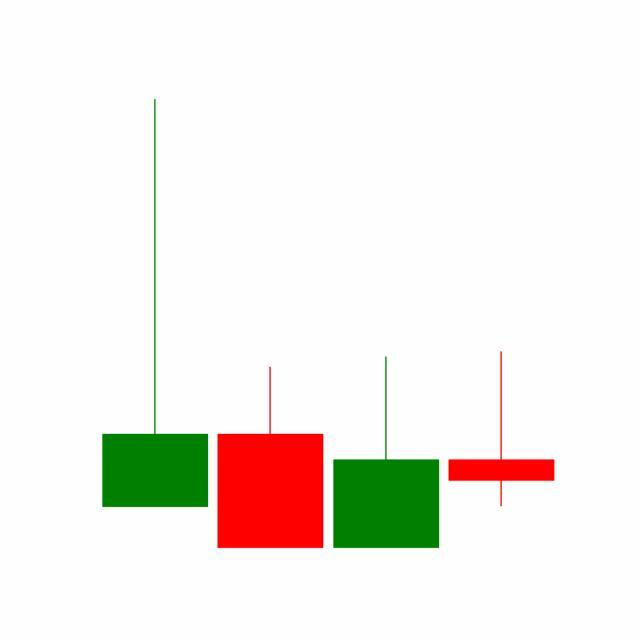Spinning Top: (444, 351, 560, 509)
